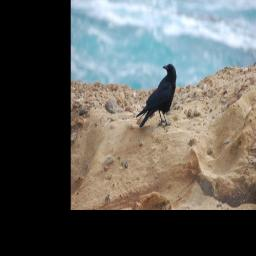Crow: (136, 61, 177, 130)
